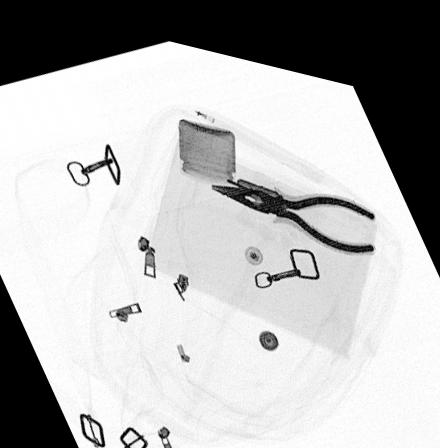Pliers: (208, 171, 378, 238)
